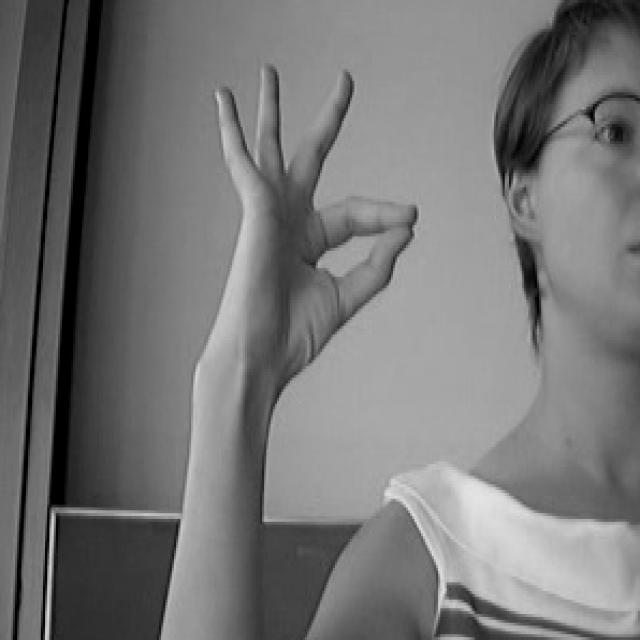F: (174, 30, 449, 434)
